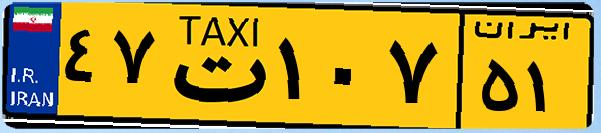0: (330, 28, 385, 110)
1: (270, 28, 330, 110), (525, 38, 570, 115)
4: (57, 26, 110, 100)
5: (475, 38, 525, 113)
7: (385, 28, 445, 110), (110, 28, 158, 98)
ت: (158, 12, 270, 120)
